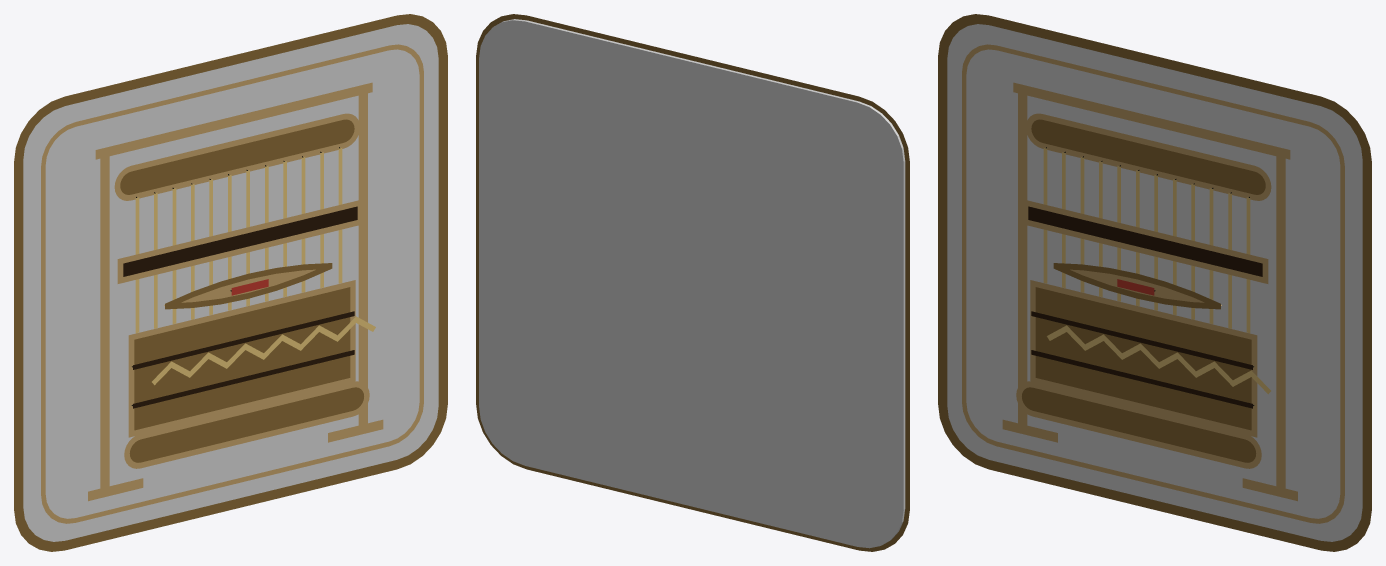
The model's file is obj-tkatskiy-stanok.glb.
The picture shows the model from 3 angles, left to right: view 1: azimuth 30°, elevation 25°; view 2: azimuth 150°, elevation 25°; view 3: azimuth 330°, elevation 25°; orthographic projection.
Visible parts, largest first — view 1: obj-tkatskiy-stanok; view 2: obj-tkatskiy-stanok; view 3: obj-tkatskiy-stanok.
Boxes of the visible parts, box(x1,y1,x2,y2) form: obj-tkatskiy-stanok: box(14, 14, 447, 551); obj-tkatskiy-stanok: box(476, 14, 909, 551); obj-tkatskiy-stanok: box(938, 14, 1371, 551).
Bounding box in the file's own units: 0.3917 × 0.3917 × 0.0326.
